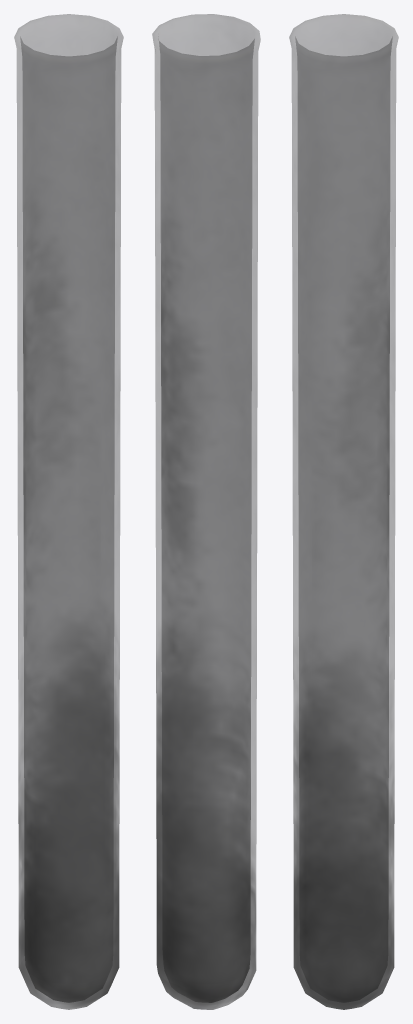
3 renders of one model, left to right at view 1: azimuth 90°, elevation 25°; view 2: azimuth 150°, elevation 25°; view 3: azimuth 270°, elevation 25°, orthographic.
Parts seen in each view (by area): view 1: chemistry_set_test_tube_b.001; view 2: chemistry_set_test_tube_b.001; view 3: chemistry_set_test_tube_b.001.
Boxes of the visible parts, bbox=[...] form: chemistry_set_test_tube_b.001: bbox=[14, 14, 123, 1009]; chemistry_set_test_tube_b.001: bbox=[152, 14, 260, 1009]; chemistry_set_test_tube_b.001: bbox=[289, 14, 398, 1009].
Size of the model in its own units: 0.0154 by 0.1495 by 0.0154.
Materials: 1 (1 with a texture image).
